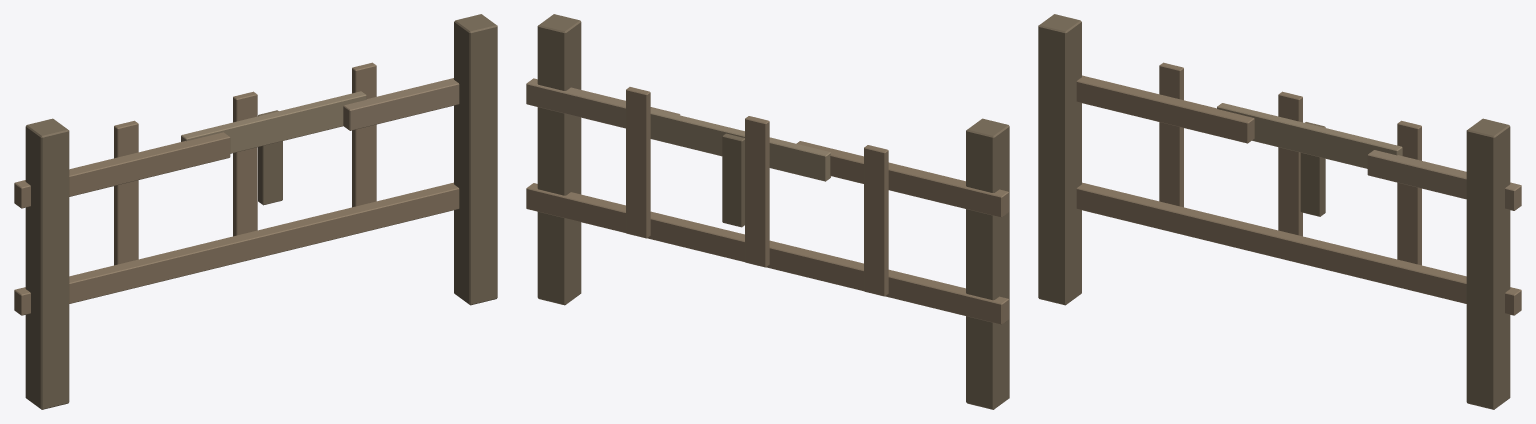
File: env_fence_rail_repaired_c_v02_three_pickets.glb
The picture shows the model from 3 angles, left to right: view 1: azimuth 30°, elevation 25°; view 2: azimuth 150°, elevation 25°; view 3: azimuth 330°, elevation 25°; orthographic projection.
Visible parts, largest first — view 1: material_2, material_0, material_3, material_1; view 2: material_0, material_2, material_3, material_1; view 3: material_2, material_0, material_3, material_1.
Part boxes in pixels (<box>): material_2: <box>25,14,497,409</box>; material_0: <box>14,62,459,315</box>; material_3: <box>181,91,366,153</box>; material_1: <box>343,78,459,130</box>; material_0: <box>526,87,1008,324</box>; material_2: <box>537,14,1009,409</box>; material_3: <box>650,108,830,181</box>; material_1: <box>526,78,680,128</box>; material_2: <box>1038,14,1510,409</box>; material_0: <box>1076,62,1521,315</box>; material_3: <box>1217,103,1402,168</box>; material_1: <box>1367,150,1521,210</box>.
Bounding box in the file's own units: 2 × 1.1 × 0.195.
